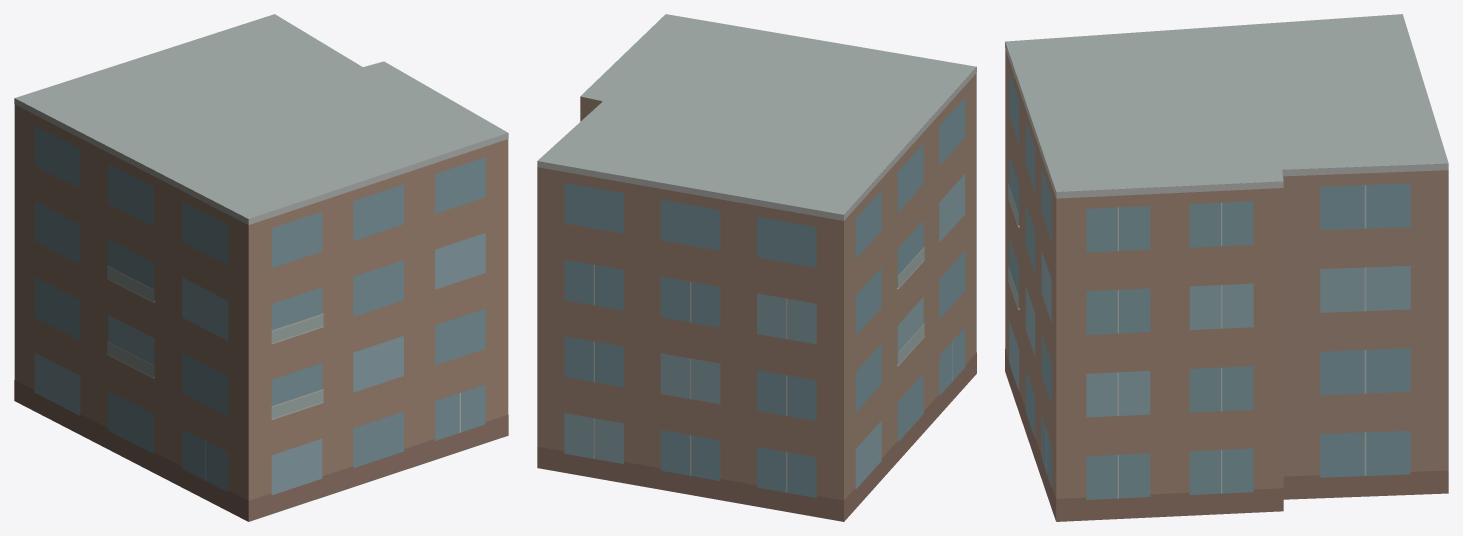
The model's file is survey-upis-32674990.glb.
3 views of the same model, side by side, from view 1: azimuth 30°, elevation 25°; view 2: azimuth 150°, elevation 25°; view 3: azimuth 270°, elevation 25° (orthographic). The views are drawn at different scales.
Parts seen in each view (by area): view 1: survey-upis-32674990.tmp; view 2: survey-upis-32674990.tmp; view 3: survey-upis-32674990.tmp.
Boxes of the visible parts, left/top/right/bottom form: survey-upis-32674990.tmp: left=14, top=14, right=508, bottom=521; survey-upis-32674990.tmp: left=537, top=14, right=976, bottom=521; survey-upis-32674990.tmp: left=1005, top=14, right=1448, bottom=521.
Size of the model in its own units: 14.13 by 12.2 by 14.88.
